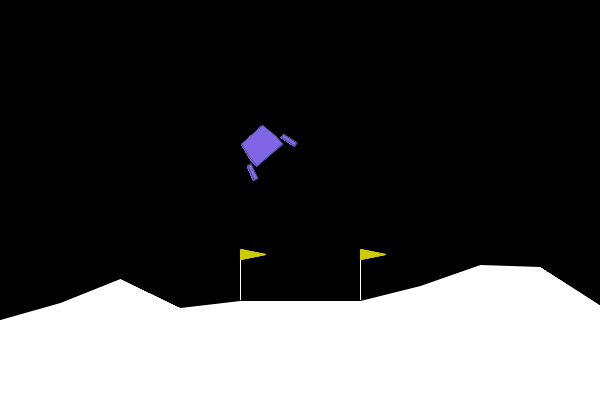lander: (228, 114, 299, 183)
